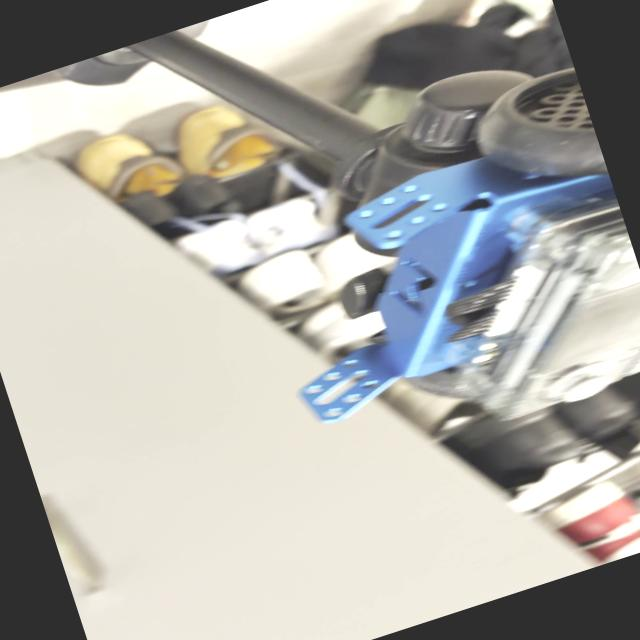mbot-detection: (222, 60, 640, 489)
